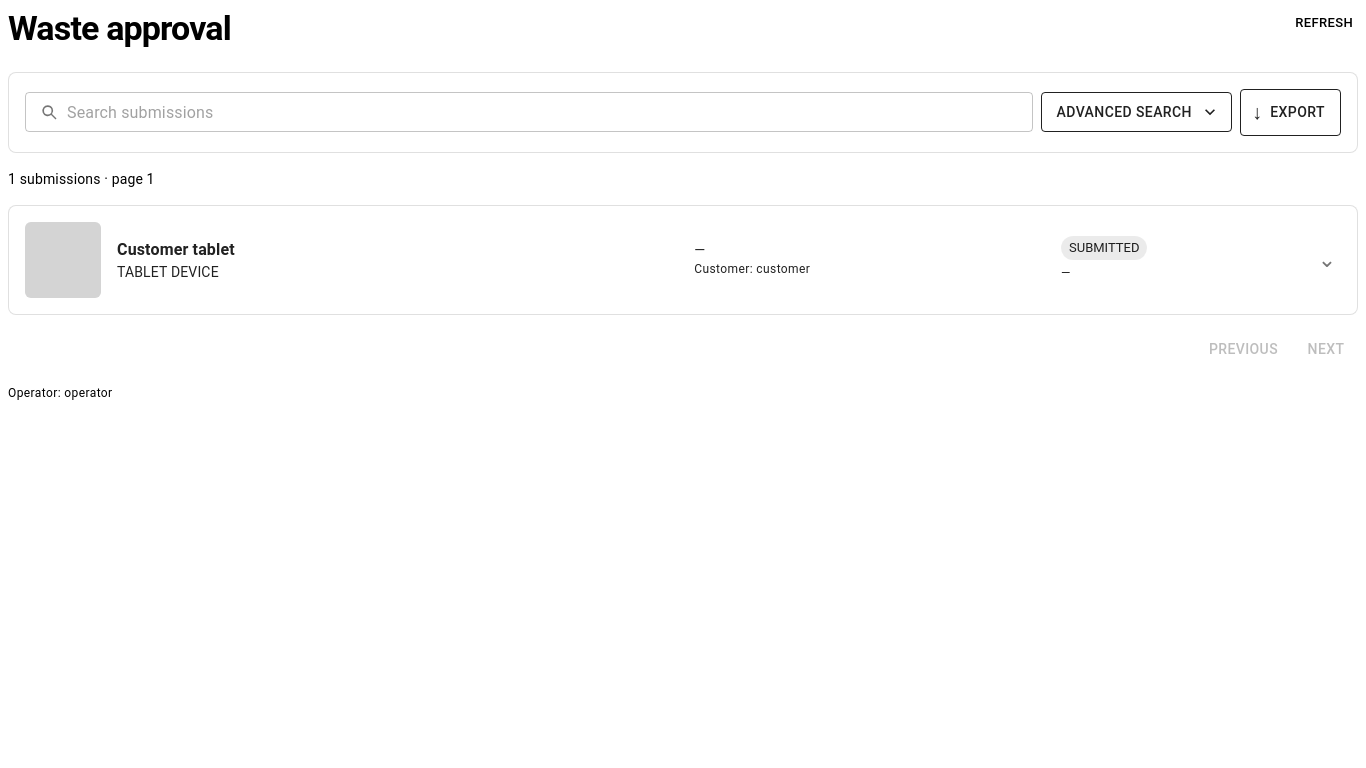
Test: scoped Waste role controls › blocks an approver until independent verification exists
What coordinates should you click on to do the following:
click the button with aria-label "Open details: Customer tablet"
I would click on:
 (63, 260)
Its box is [9, 206, 1305, 314].
(page scrolled)
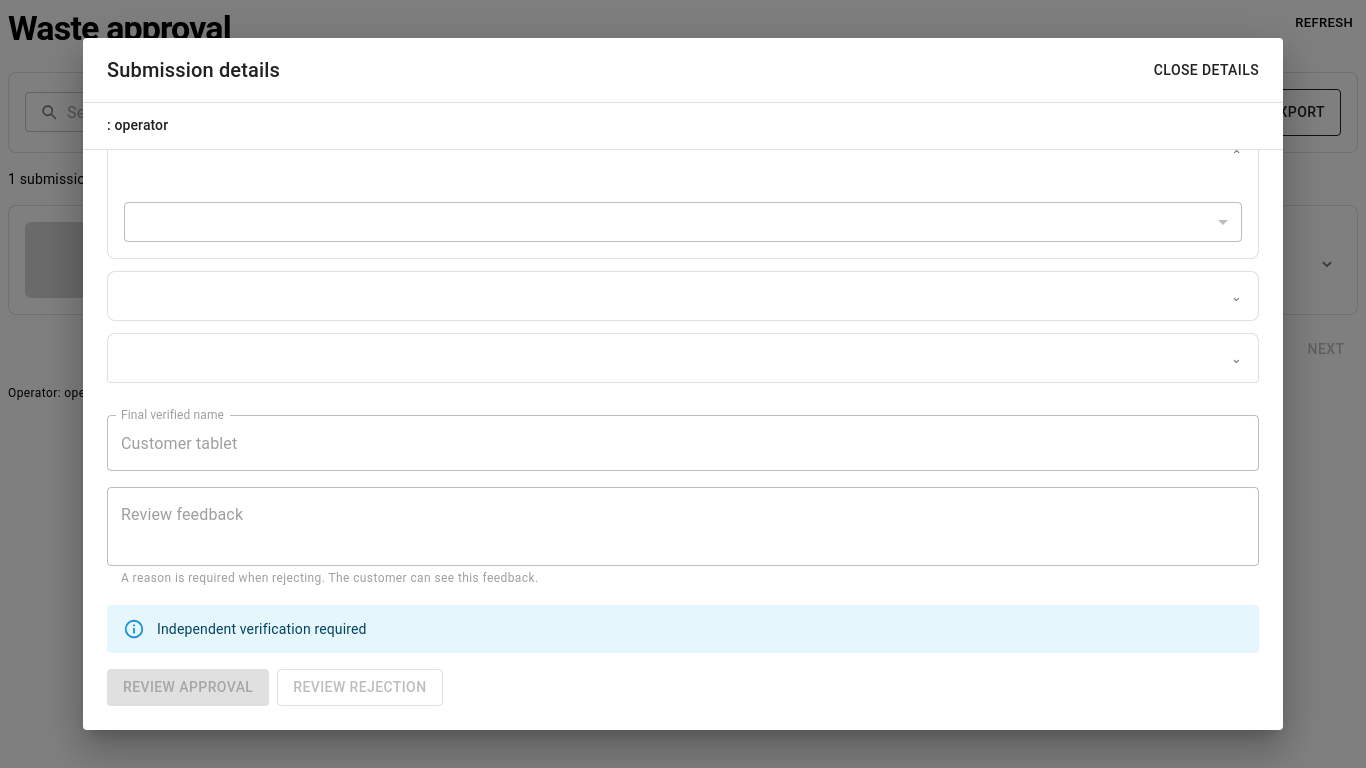
expect the button "Review approval" is disabled: met, box [107, 669, 269, 706]
expect the field labelled "Final verified name" is disabled: met, box [107, 415, 1259, 471]
